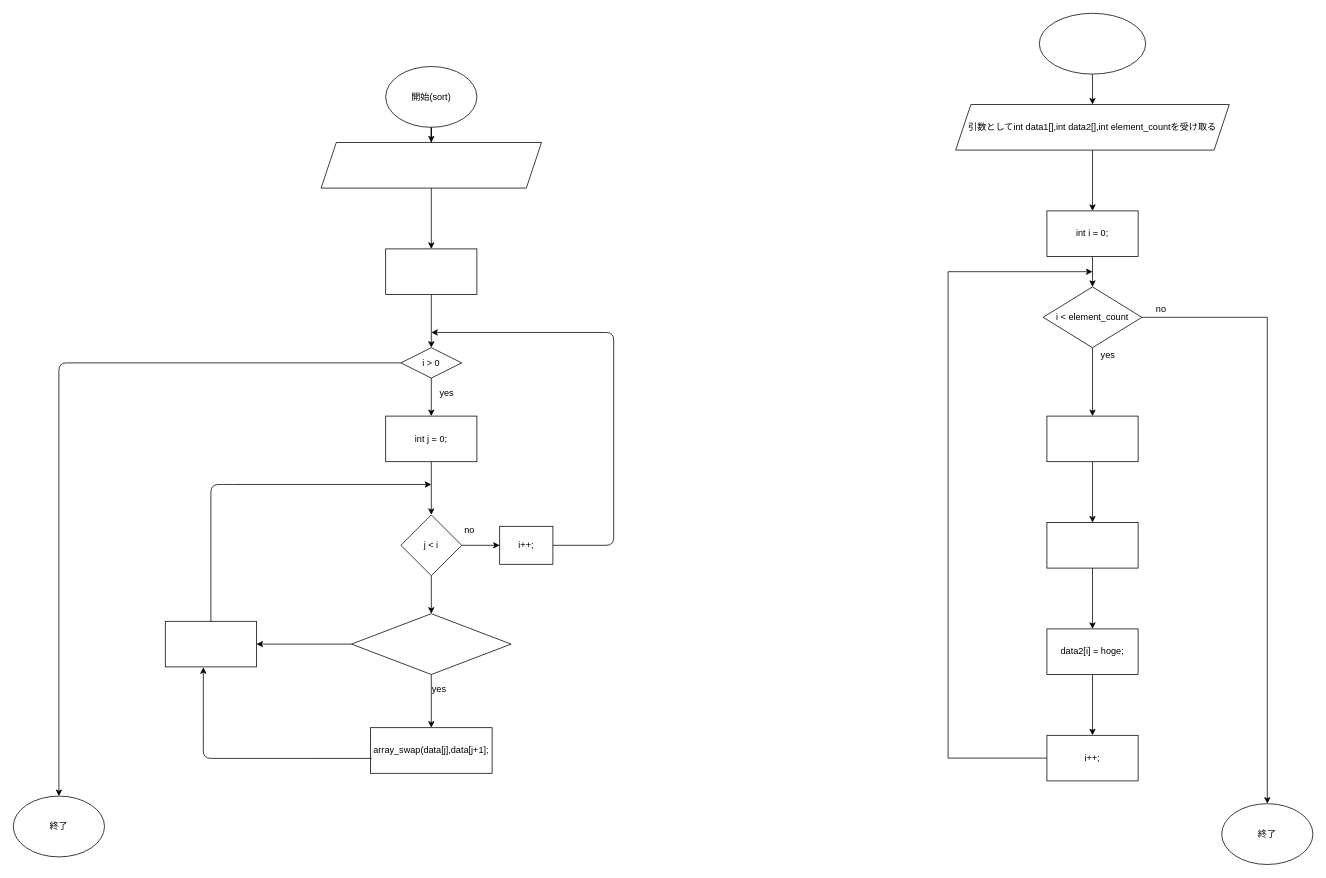
Some shapes in this 1326 by 878 pixel diagram are drawn without their labels. Here are the shapes that lost their labels. From the top down, the box of each, then its label:
(1039, 13, 1146, 74): 開始(void array_swap)
(320, 142, 542, 188): 引数としてint N, int data[][6],int modeを受け取る
(385, 248, 477, 294): int i = N-1;
(1046, 415, 1138, 462): int hoge = data1[i];
(1046, 522, 1138, 568): data1[i] = data2[i];
(165, 621, 256, 667): j++;
(351, 613, 511, 674): data[j][mode] > data[j+1][mode]
